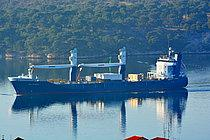Ship: (5, 42, 191, 102)
